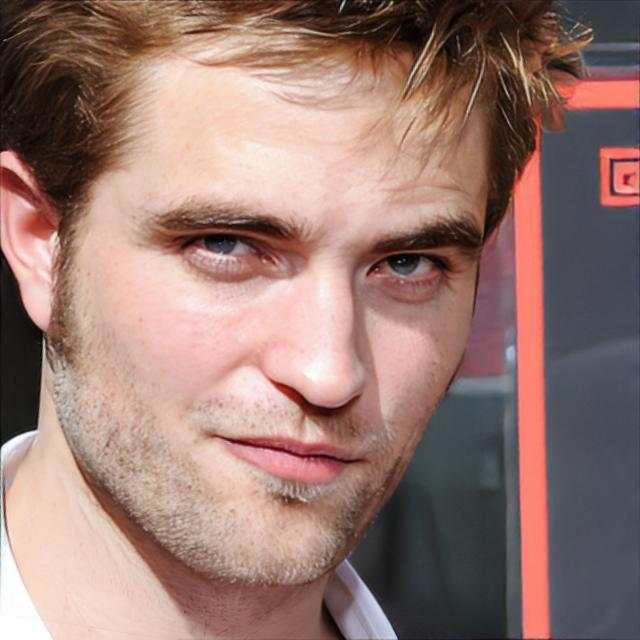content: (61, 30, 498, 591)
